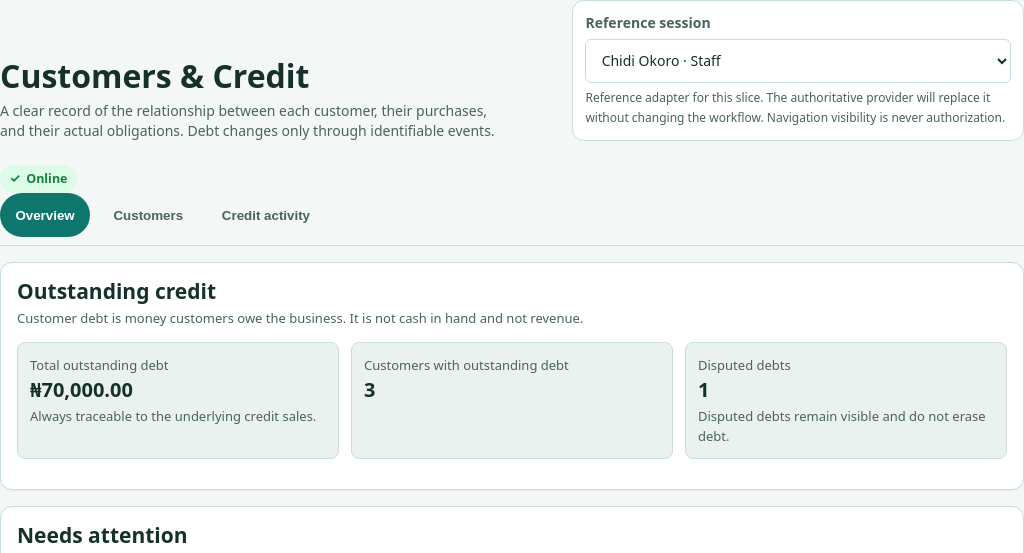
Test: Customers & Credit workspace › shows the customer profile with credit status, limit, and independently traceable debts
Click the tab "Customers".
click(148, 215)  # box left=98, top=193, right=198, bottom=237
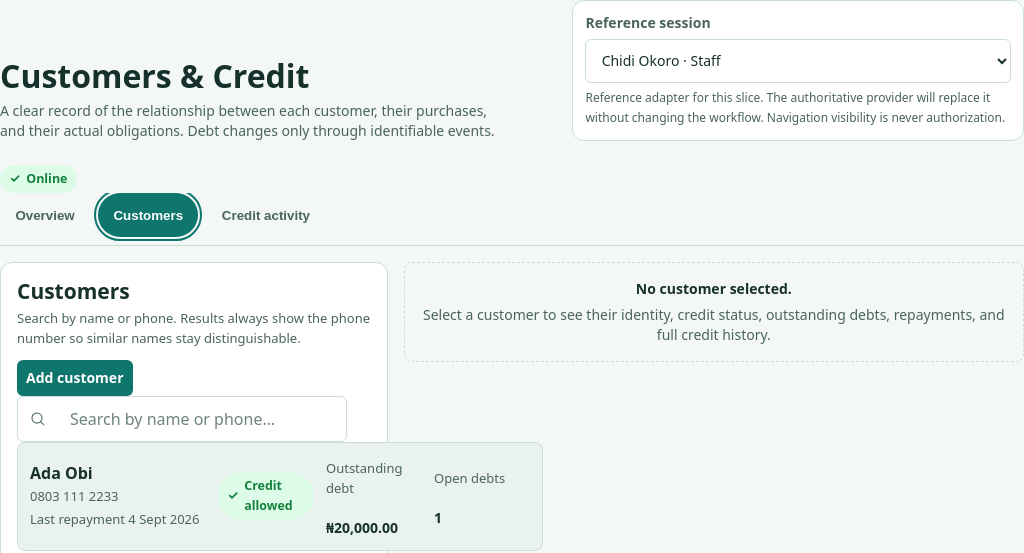
Click the button "Ada Obi 0803 111 2233".
click(280, 496)  # box left=17, top=442, right=543, bottom=551
(page scrolled)
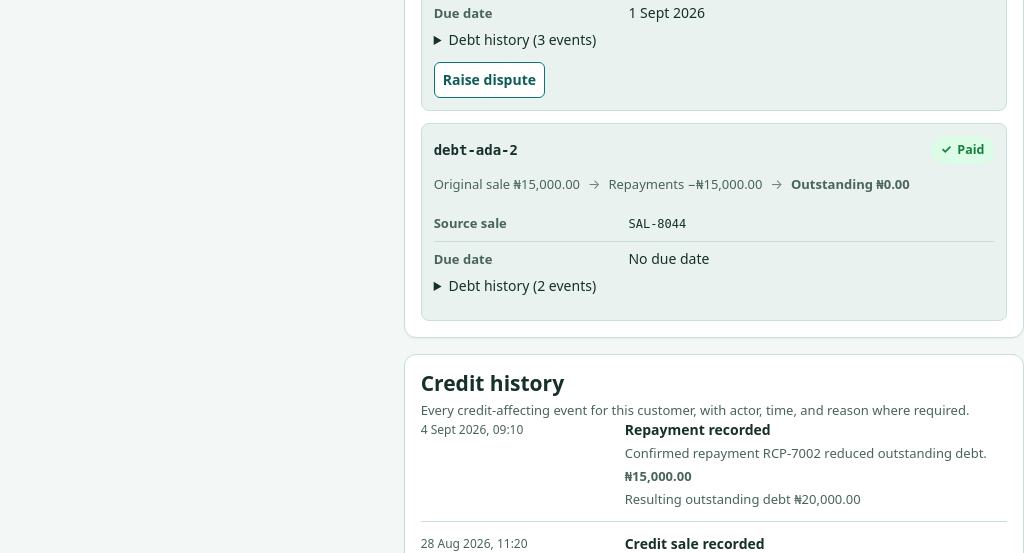
Now the heading "Credit history" is shown, box left=421, top=369, right=564, bottom=397
Now the heading "debt-ada-2" is shown, box left=434, top=142, right=518, bottom=158
Now the text "Paid" is shown, box left=957, top=141, right=984, bottom=158
